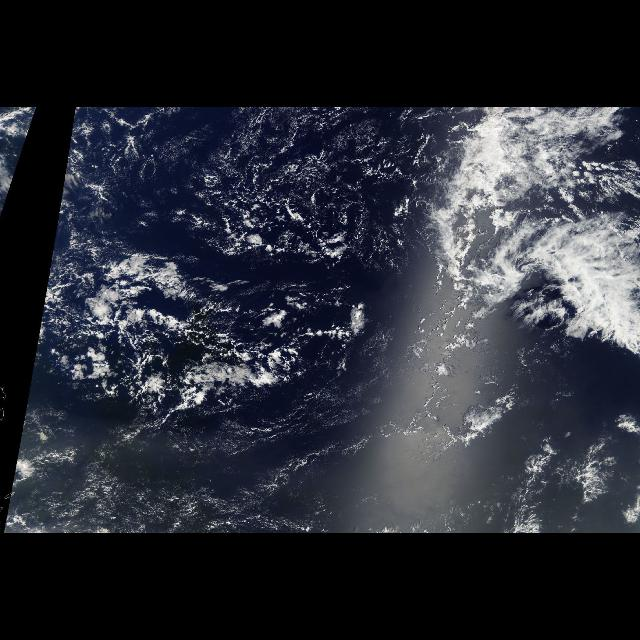Fish: (434, 115, 640, 378)
Gravel: (24, 110, 416, 418), (1, 111, 36, 215)
Sugar: (185, 382, 398, 502), (82, 112, 228, 260)
